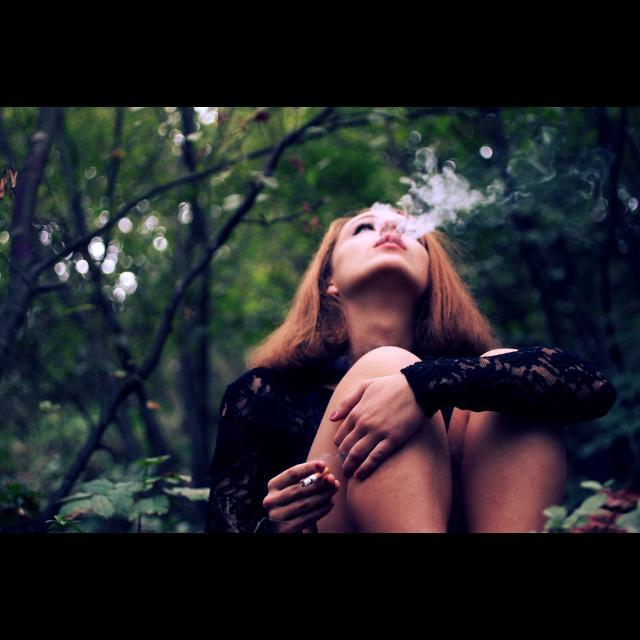rokok: (299, 467, 331, 488)
